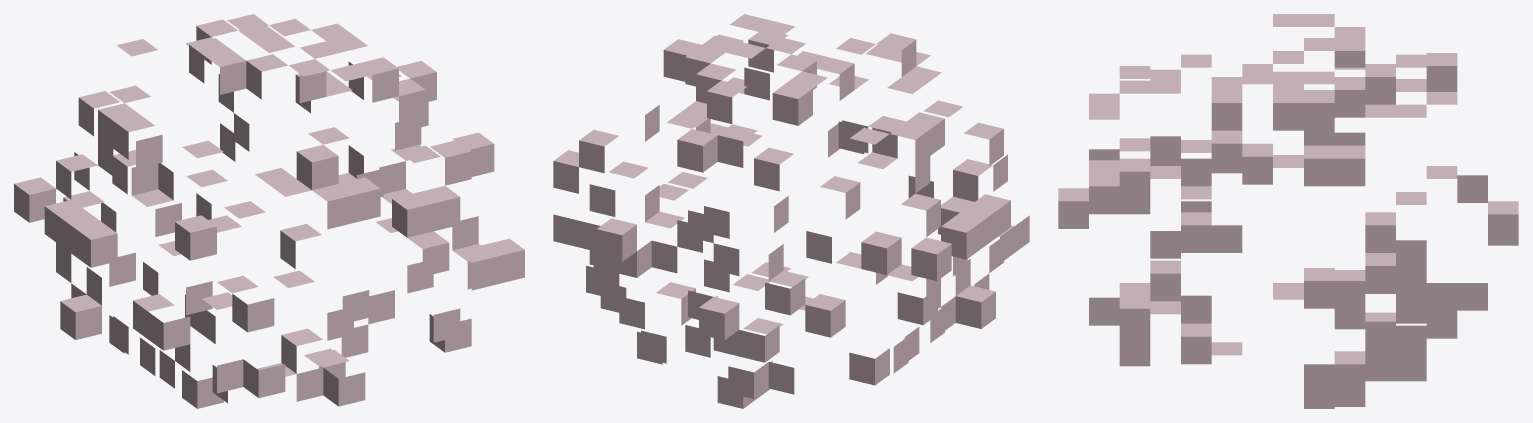
File: tree-cherry-1p25-white-ffe3ec.gltf
The picture shows the model from 3 angles, left to right: view 1: azimuth 30°, elevation 25°; view 2: azimuth 150°, elevation 25°; view 3: azimuth 270°, elevation 25°; orthographic projection. The views are drawn at different scales.
Visible parts, largest first — view 1: tree-cherry-1p25-white-ffe3ec; view 2: tree-cherry-1p25-white-ffe3ec; view 3: tree-cherry-1p25-white-ffe3ec.
Part boxes in pixels (bbox=[...]): tree-cherry-1p25-white-ffe3ec: bbox=[14, 14, 524, 408]; tree-cherry-1p25-white-ffe3ec: bbox=[553, 14, 1029, 408]; tree-cherry-1p25-white-ffe3ec: bbox=[1058, 14, 1518, 408].
Size of the model in its own units: 15 by 11 by 15.
